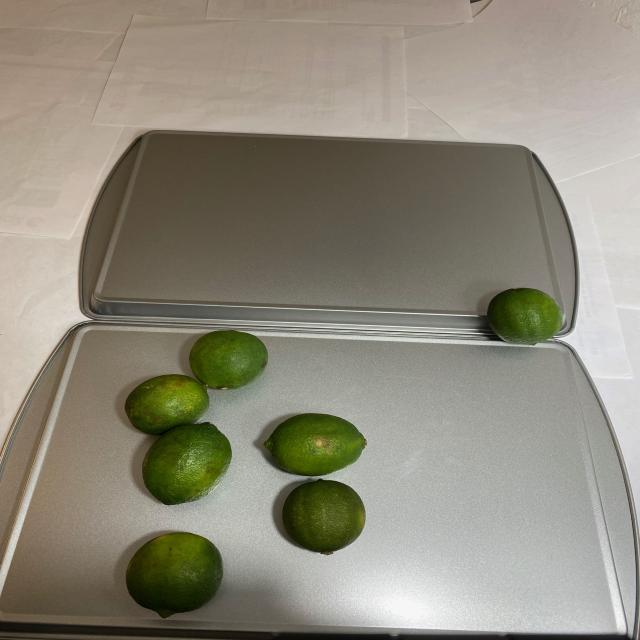lemon: (108, 330, 372, 620), (486, 289, 564, 345)
